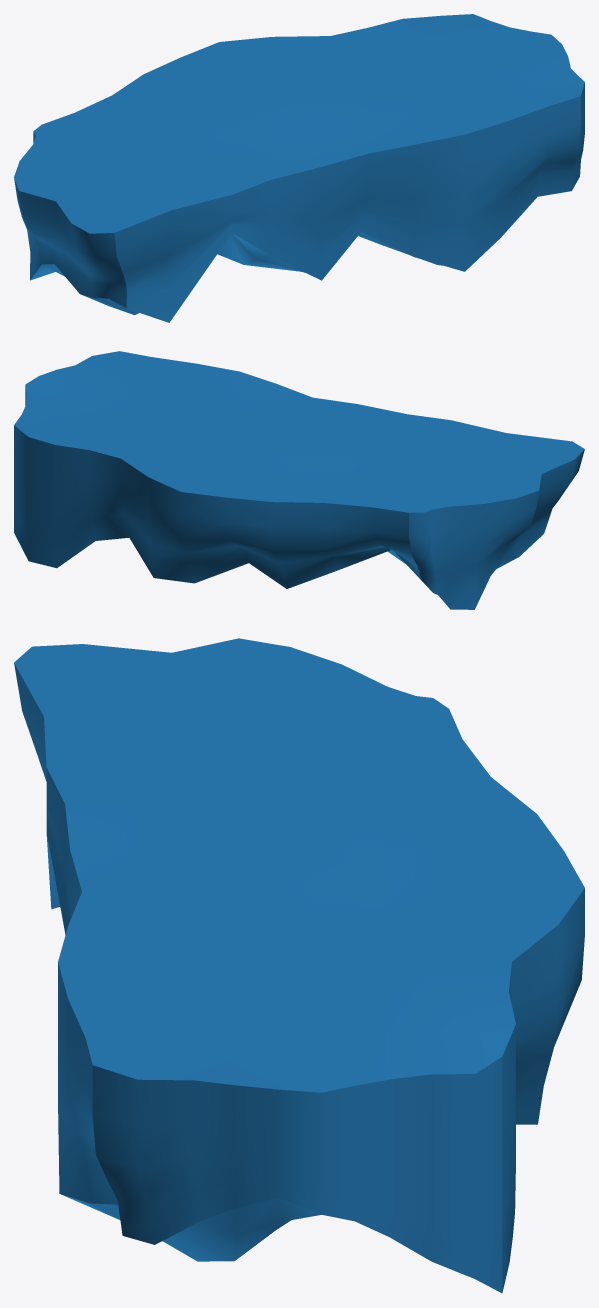
Rendered from iceberg.FBX.
3 views of the same model, one above another, from view 1: azimuth 30°, elevation 25°; view 2: azimuth 150°, elevation 25°; view 3: azimuth 270°, elevation 25° (orthographic). The views are drawn at different scales.
Parts seen in each view (by area): view 1: Box001; view 2: Box001; view 3: Box001.
Boxes of the visible parts, x1,y1,x2,y2 form: Box001: (14, 14, 584, 322); Box001: (14, 351, 584, 609); Box001: (14, 638, 584, 1293).
Size of the model in its own units: 1240 by 339 by 653.
